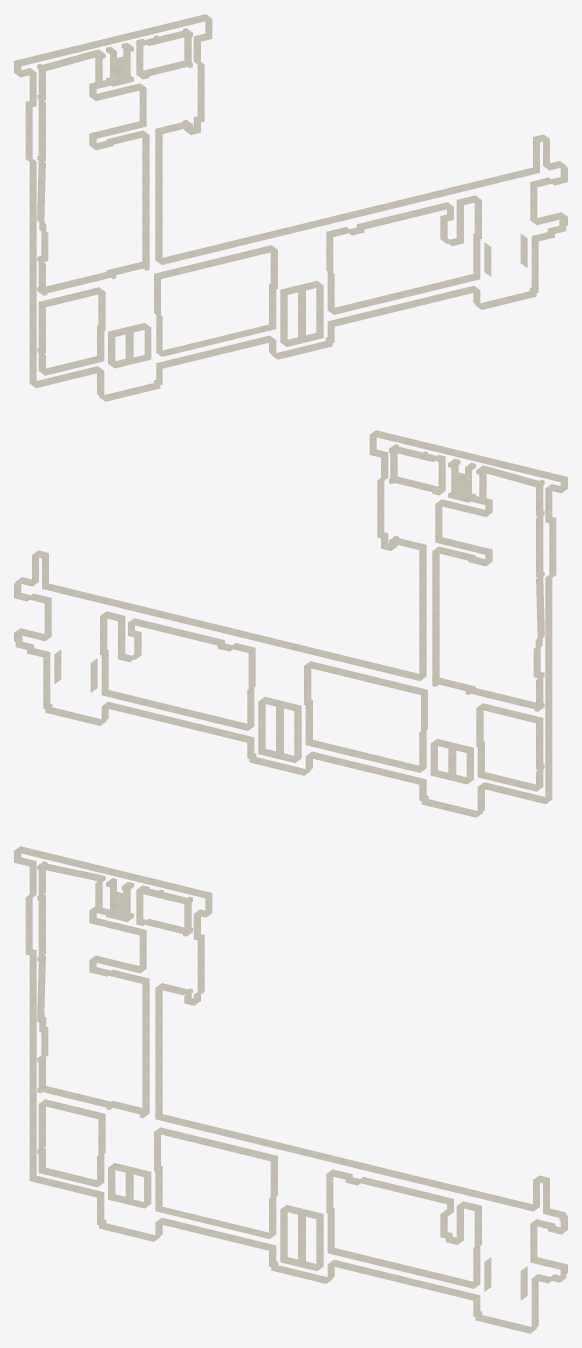
File: part1-camera-safe.obj
3 views of the same model, one above another, from view 1: azimuth 30°, elevation 25°; view 2: azimuth 150°, elevation 25°; view 3: azimuth 330°, elevation 25° (orthographic).
Size of the model in its own units: 734 by 457 by 15.
Materials: 1 (1 with a texture image).
